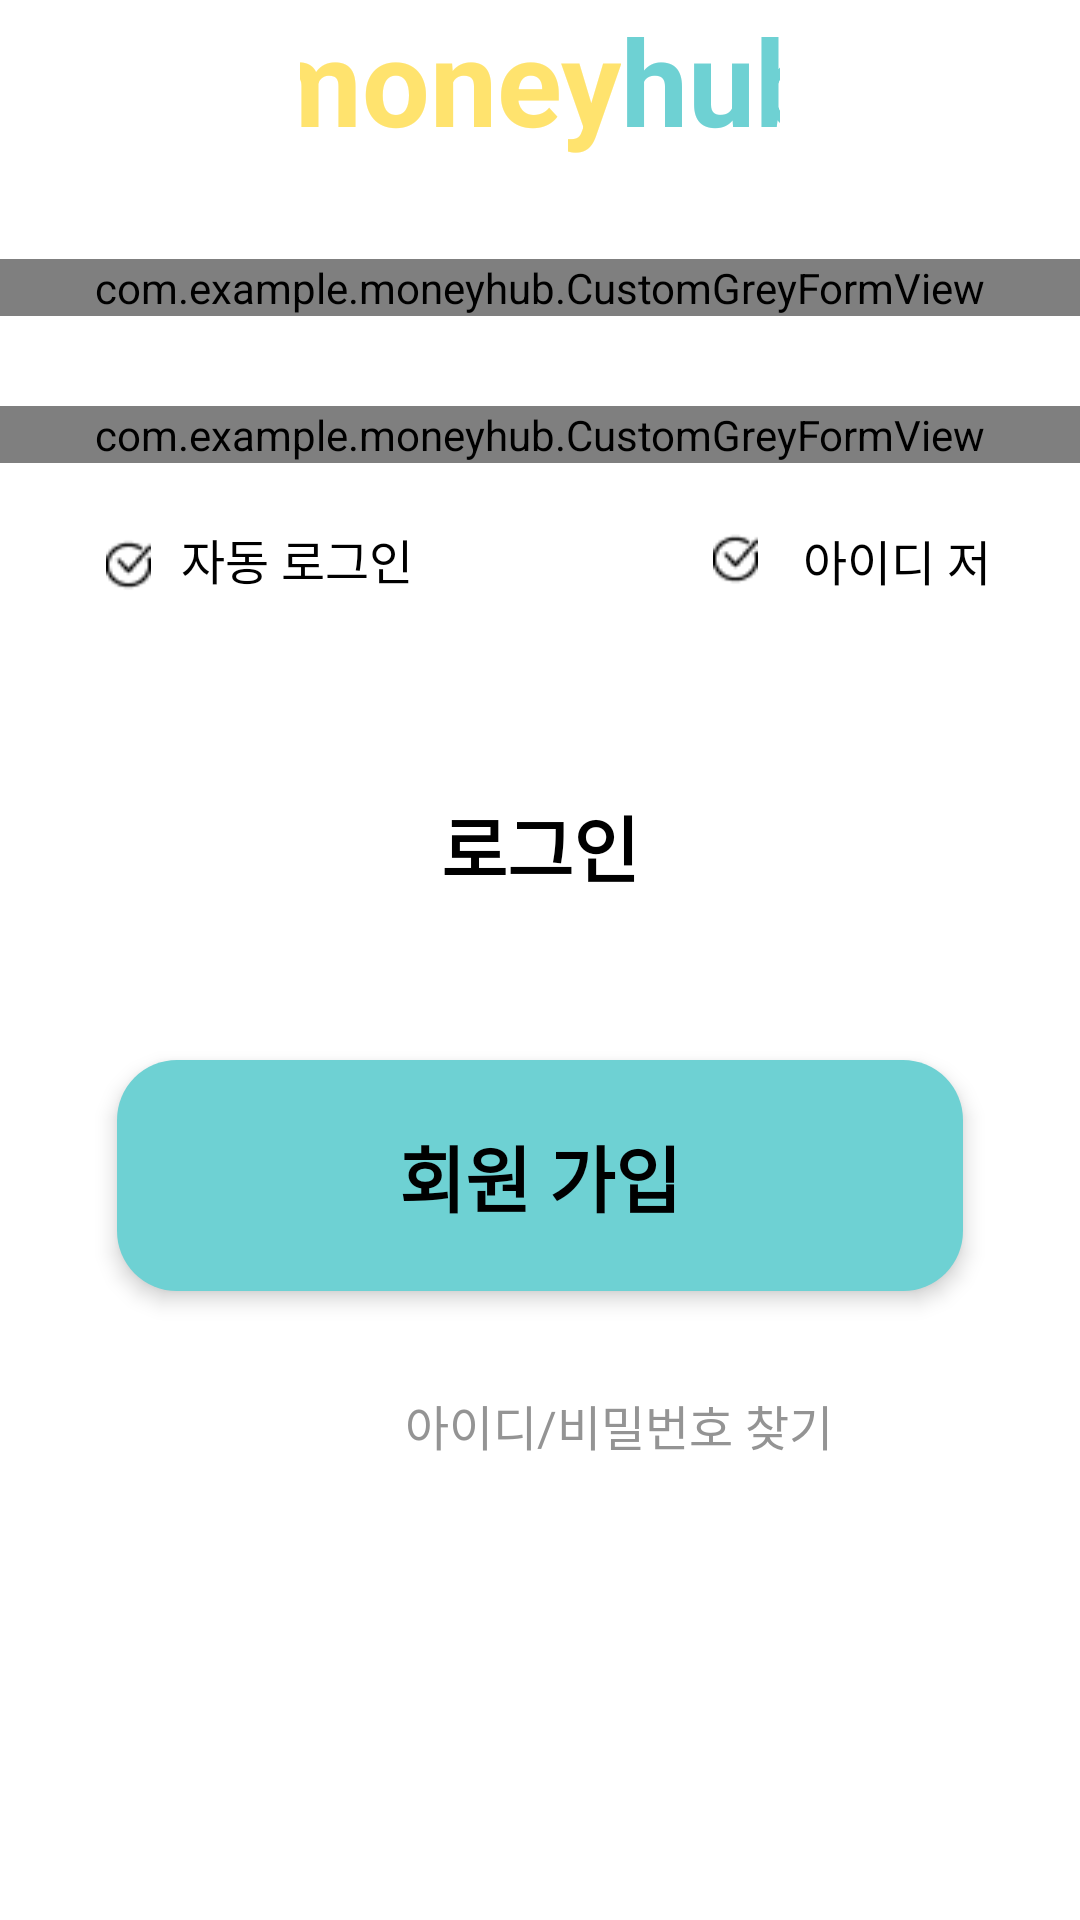

Named icons in this screenshot (1080px×1920px) and their centers, (x,y):
check: (735,559), (128,565)
